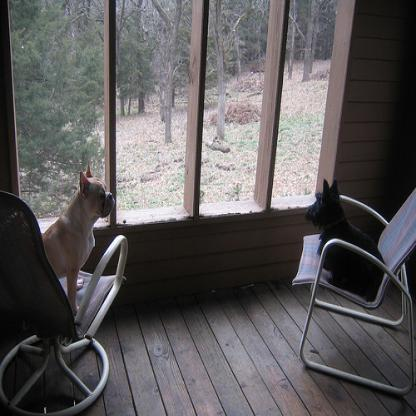chair: (0, 189, 129, 408), (293, 185, 415, 395)
dog: (40, 163, 116, 316), (302, 173, 385, 304)
